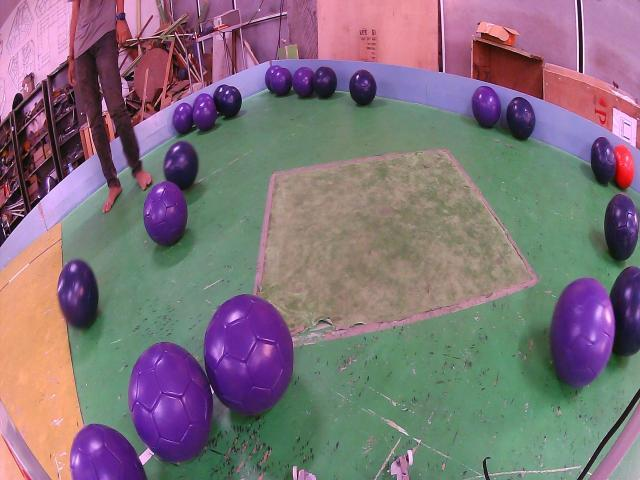jambhalya: (204, 295, 294, 415), (128, 342, 212, 463), (550, 278, 615, 388), (70, 423, 146, 480), (142, 182, 188, 245), (471, 85, 501, 128), (192, 98, 217, 132), (292, 67, 314, 98), (172, 103, 194, 133), (270, 67, 292, 97), (265, 65, 280, 92), (192, 93, 212, 108)
kaalyya: (58, 260, 99, 327), (610, 267, 640, 357), (604, 193, 639, 260), (164, 142, 199, 190), (506, 97, 536, 140), (591, 137, 616, 185), (349, 70, 376, 105), (314, 67, 338, 98), (221, 87, 241, 117), (212, 85, 229, 112)
